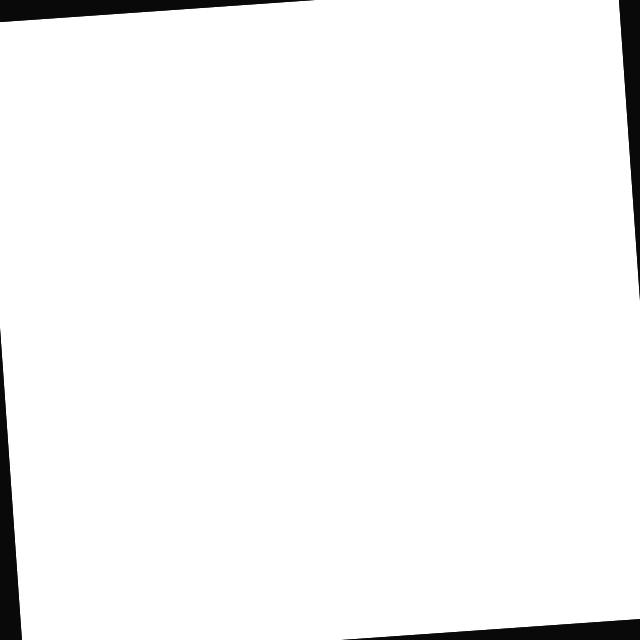dent: (491, 425, 539, 462), (365, 435, 395, 460), (348, 366, 378, 387), (627, 447, 640, 471)
